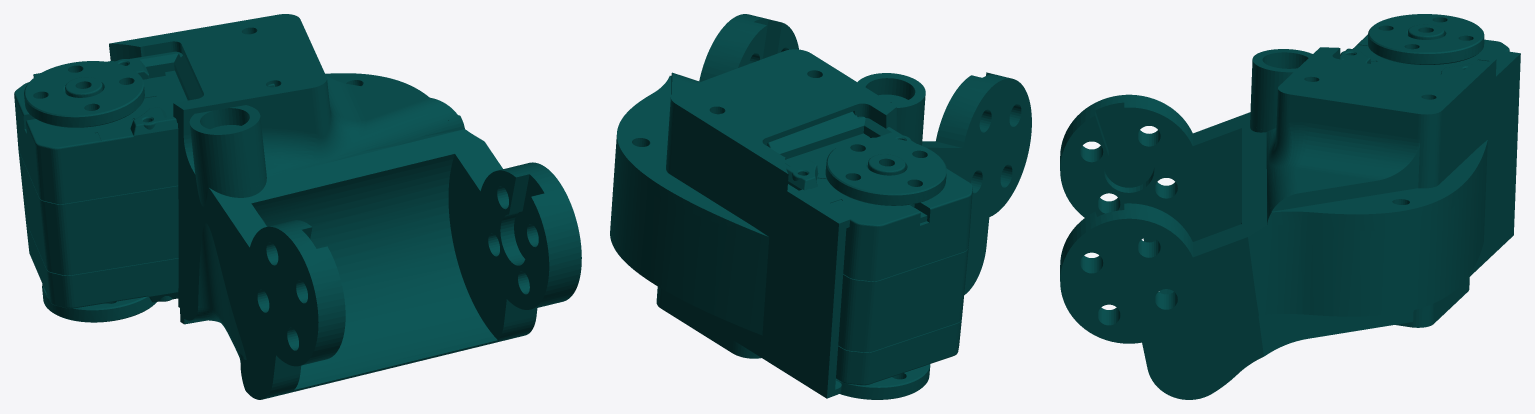
File: leg_left_hip_yaw_visuals.obj
The picture shows the model from 3 angles, left to right: view 1: azimuth 30°, elevation 25°; view 2: azimuth 150°, elevation 25°; view 3: azimuth 270°, elevation 25°; orthographic projection. The views are drawn at different scales.
Size of the model in its own units: 0.0688 by 0.044 by 0.0762.
